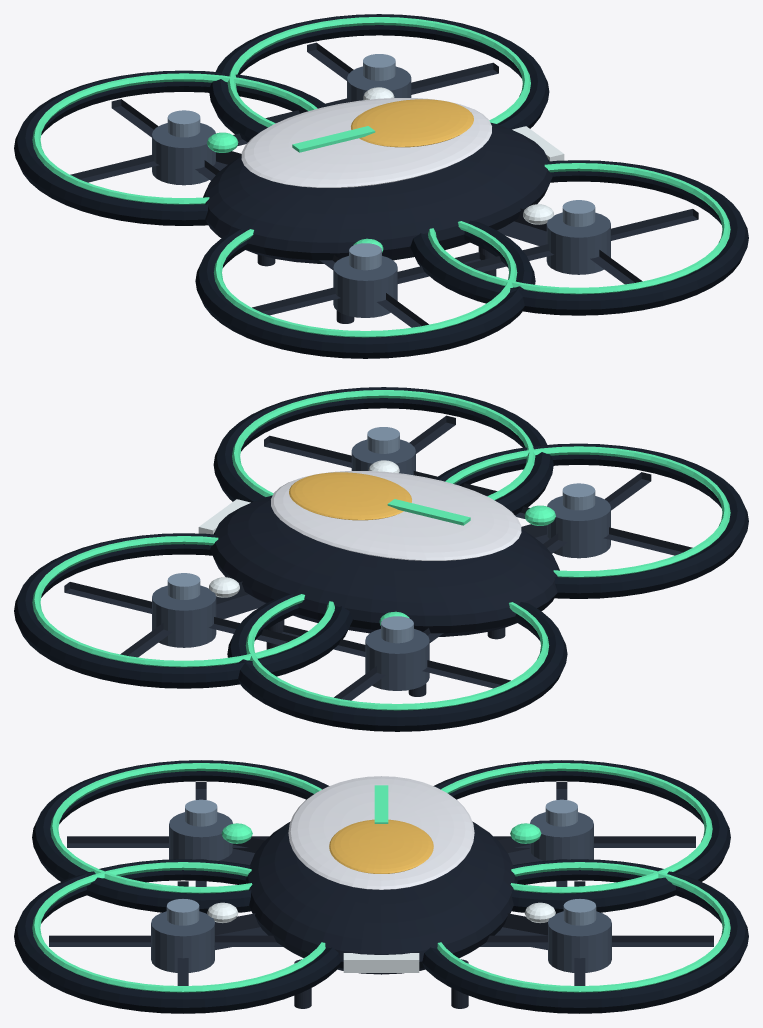
Rendered from festival_body.dae.
3 views of the same model, one above another, from view 1: azimuth 30°, elevation 25°; view 2: azimuth 150°, elevation 25°; view 3: azimuth 270°, elevation 25° (orthographic).
Visible parts, largest first — view 1: guard, shell, accent, top, carbon, motor, gold, silver, light; view 2: guard, shell, accent, top, carbon, motor, gold, silver, light; view 3: guard, shell, accent, top, carbon, motor, gold, silver, light.
Part boxes in pixels (x1,y1,x2,y2): guard: (14,14,748,358); shell: (203,122,552,263); accent: (32,17,730,337); top: (241,98,491,187); carbon: (70,42,698,327); motor: (152,66,610,317); gold: (351,99,473,147); silver: (167,54,595,270); light: (363,87,564,224); guard: (14,387,748,731); shell: (210,495,559,636); accent: (32,390,730,710); top: (271,471,521,560); carbon: (64,415,692,700); motor: (152,439,610,690); gold: (289,472,411,520); silver: (167,427,595,643); light: (198,460,399,597); guard: (14,760,748,1013); shell: (245,821,517,974); accent: (32,763,730,992); top: (288,776,474,889); carbon: (49,782,713,1008); motor: (151,812,611,972); gold: (329,819,433,873); silver: (166,799,596,925); light: (207,902,555,972).
Size of the model in its own units: 0.9843 by 1.26 by 0.277.
